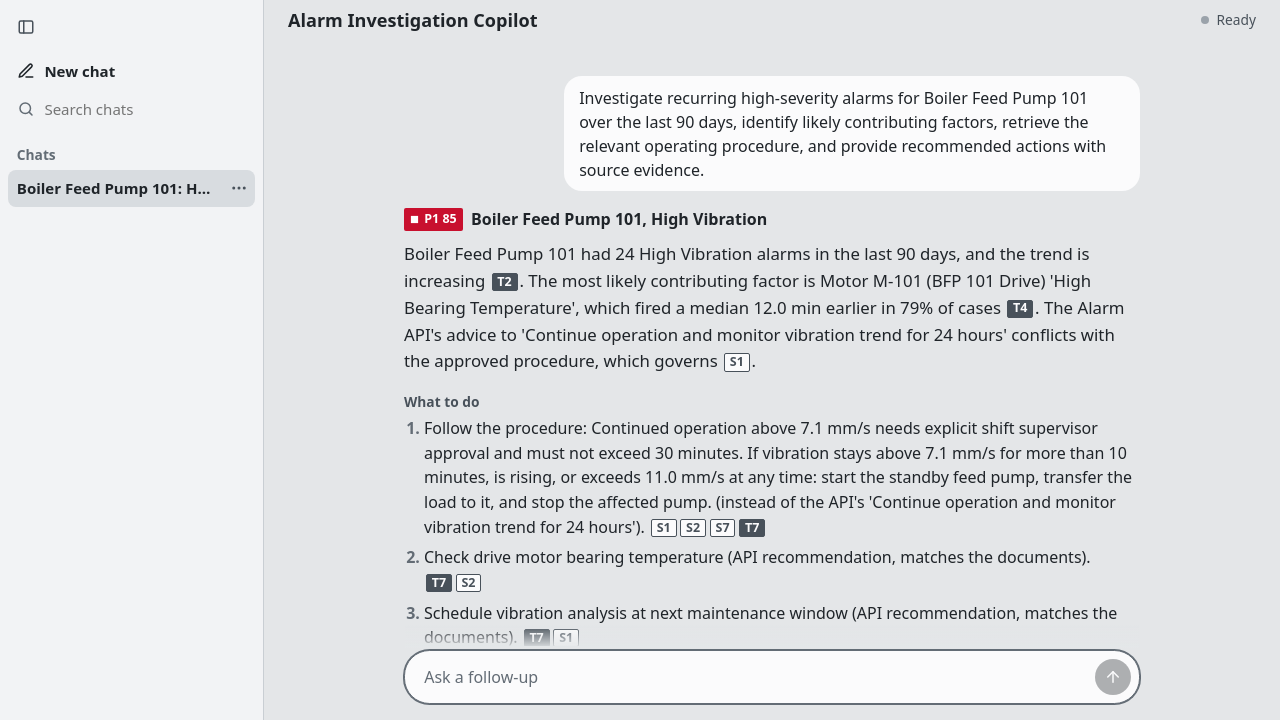
Test case: deleting the open chat goes back to a new chat
The width and height of the screenshot is (1280, 720).
Expected: the element named "Answer" is shown, [404,207,1140,646]
Click the button named "Options for Boiler Feed Pump 101: High Vibration" at (239,188), box [223,172,255,204]
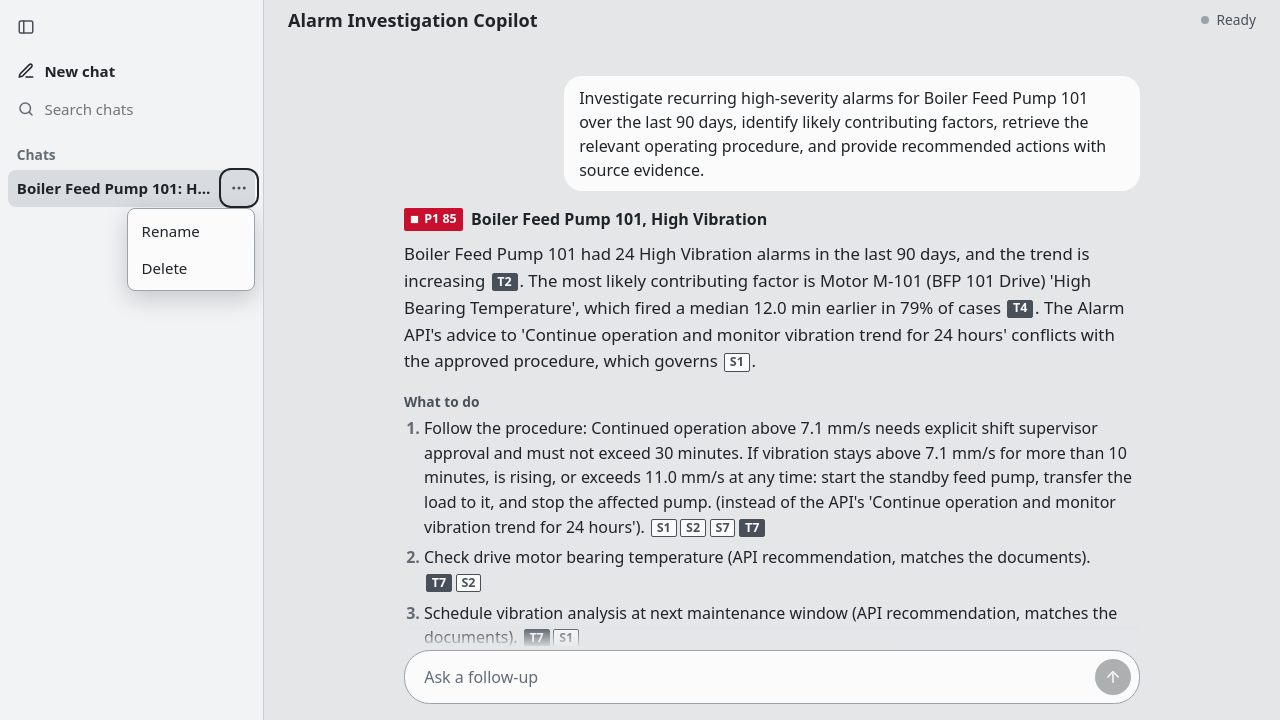
Click the button "Delete" at (191,268), box [132,250,250,286]
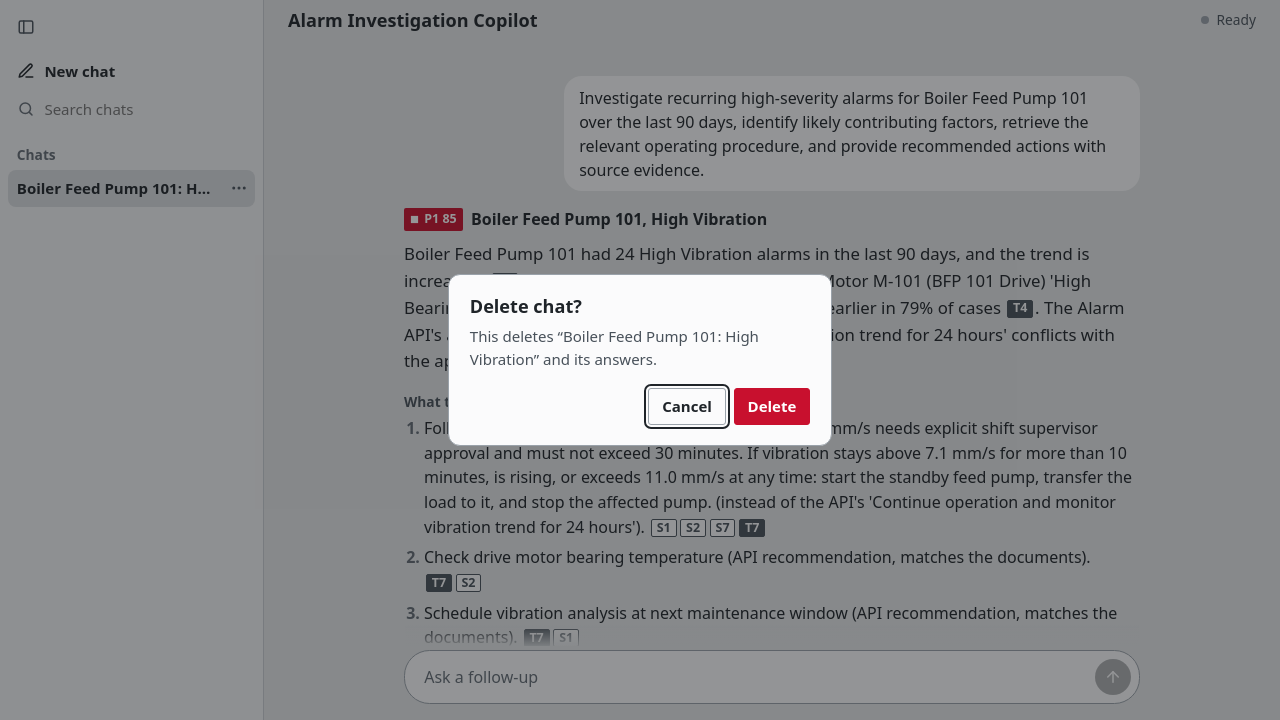
Click the button "Delete" at (772,407), box [734,388,810,425]
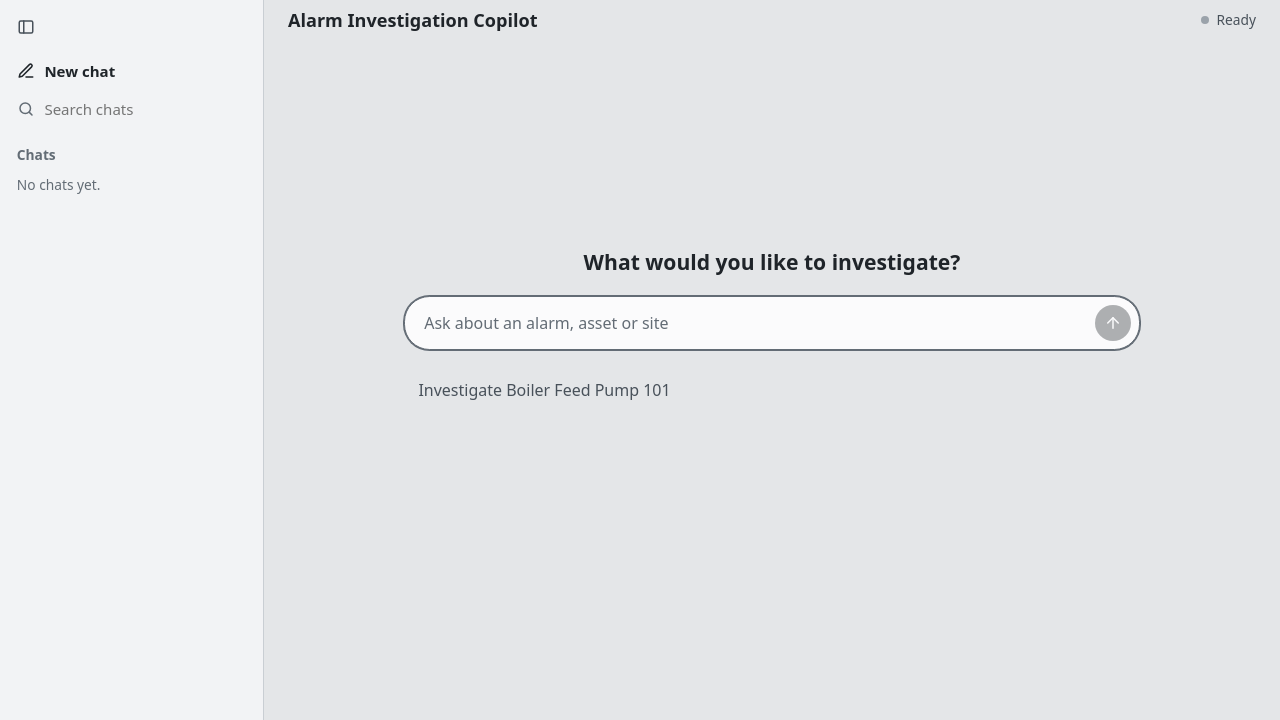
Expected: the button "Boiler Feed Pump 101: High Vibration" is gone
Expected: the heading "What would you like to investigate?" is shown, [584,247,960,276]
